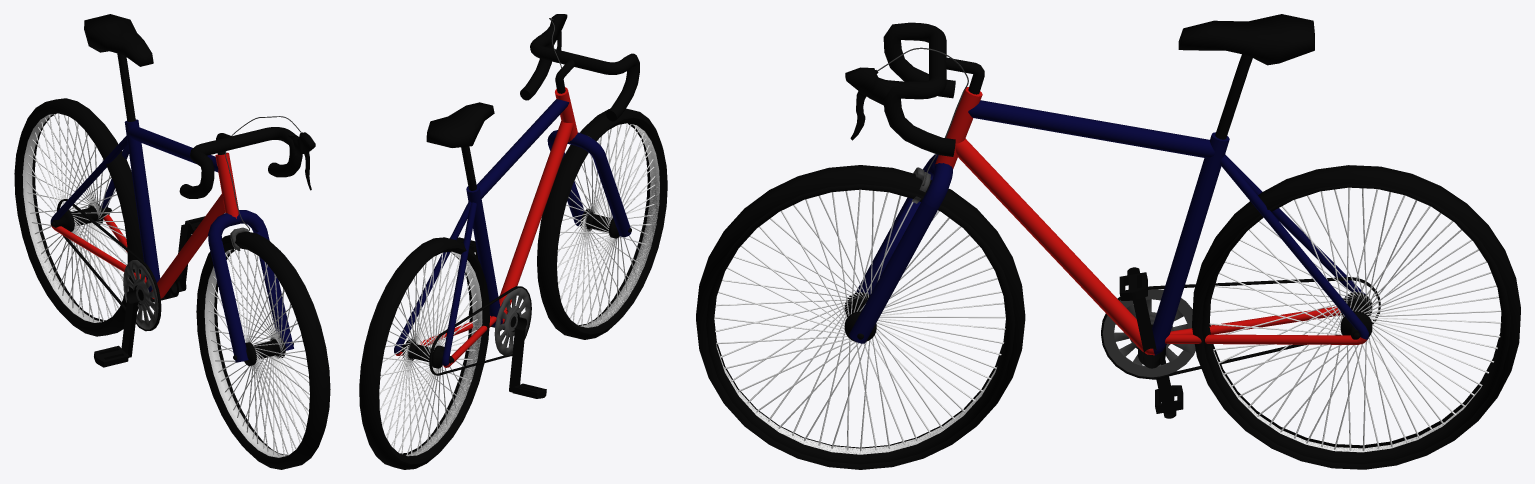
The model's file is RoadBikeV7.fbx.
The picture shows the model from 3 angles, left to right: view 1: azimuth 30°, elevation 25°; view 2: azimuth 150°, elevation 25°; view 3: azimuth 270°, elevation 25°; orthographic projection. The views are drawn at different scales.
Visible parts, largest first — view 1: FrontWheel, RearWheel, BikeFrame, Handle, Pedalier, PEdalRight; view 2: RearWheel, FrontWheel, BikeFrame, Handle, Pedalier, PEdalRight; view 3: RearWheel, FrontWheel, BikeFrame, Handle, Pedalier.
Part boxes in pixels (bbox=[...]): FrontWheel: bbox=[196, 231, 330, 469]; RearWheel: bbox=[14, 98, 143, 336]; BikeFrame: bbox=[50, 14, 248, 331]; Handle: bbox=[179, 116, 315, 362]; Pedalier: bbox=[121, 223, 192, 357]; PEdalRight: bbox=[94, 345, 128, 367]; RearWheel: bbox=[359, 237, 489, 469]; FrontWheel: bbox=[537, 108, 667, 339]; BikeFrame: bbox=[394, 87, 590, 375]; Handle: bbox=[520, 14, 639, 237]; Pedalier: bbox=[468, 248, 526, 392]; PEdalRight: bbox=[512, 383, 546, 398]; RearWheel: bbox=[1192, 165, 1520, 469]; FrontWheel: bbox=[696, 165, 1025, 469]; BikeFrame: bbox=[911, 14, 1380, 379]; Handle: bbox=[845, 22, 984, 343]; Pedalier: bbox=[1127, 267, 1176, 418].
Bounding box in the file's own units: 95.32 × 272 × 463.
